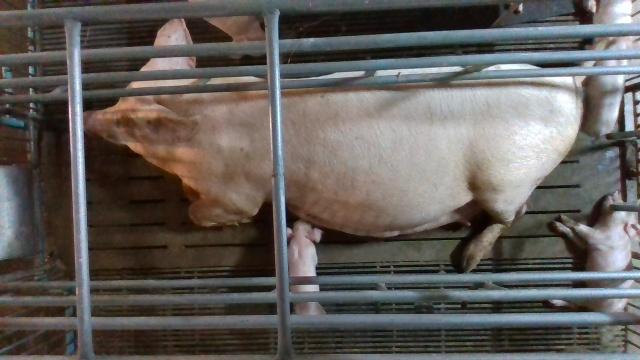piglet: (545, 191, 640, 311), (584, 36, 629, 136), (286, 221, 327, 315), (199, 14, 266, 60)
sow-sleep-lactate: (83, 18, 583, 274)
